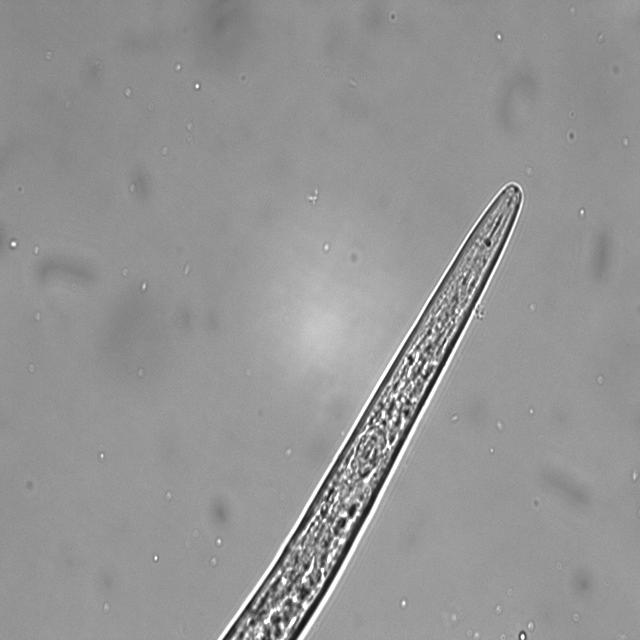Meloidogyne: (207, 180, 527, 640)
